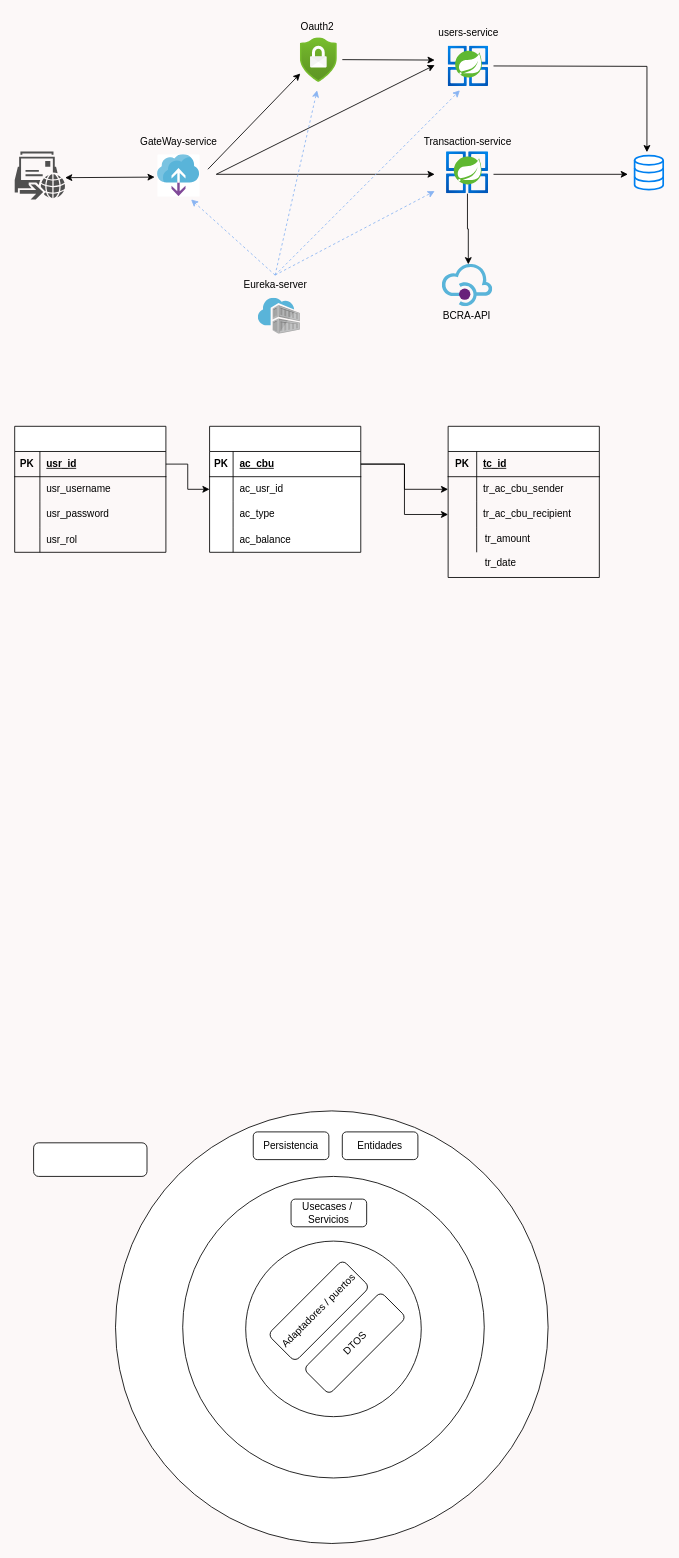
The diagram is 679 pixels wide and 1558 high, and some of its shapes have lost their labels. The shapes that lost their labels are listed below. From the top down, each one's box as (x1, y1, x2, y2) in pixels, then its label:
(14, 425, 166, 552): Users
(209, 425, 361, 552): Account
(447, 425, 599, 578): Transactions
